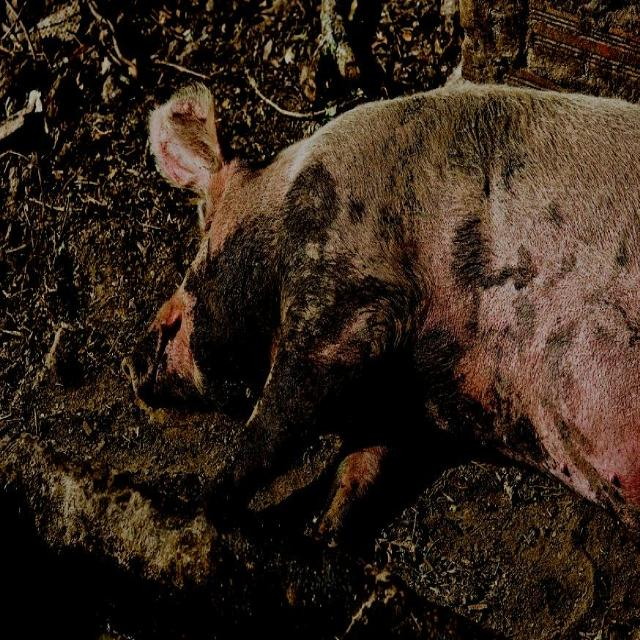pig: (124, 84, 640, 538)
